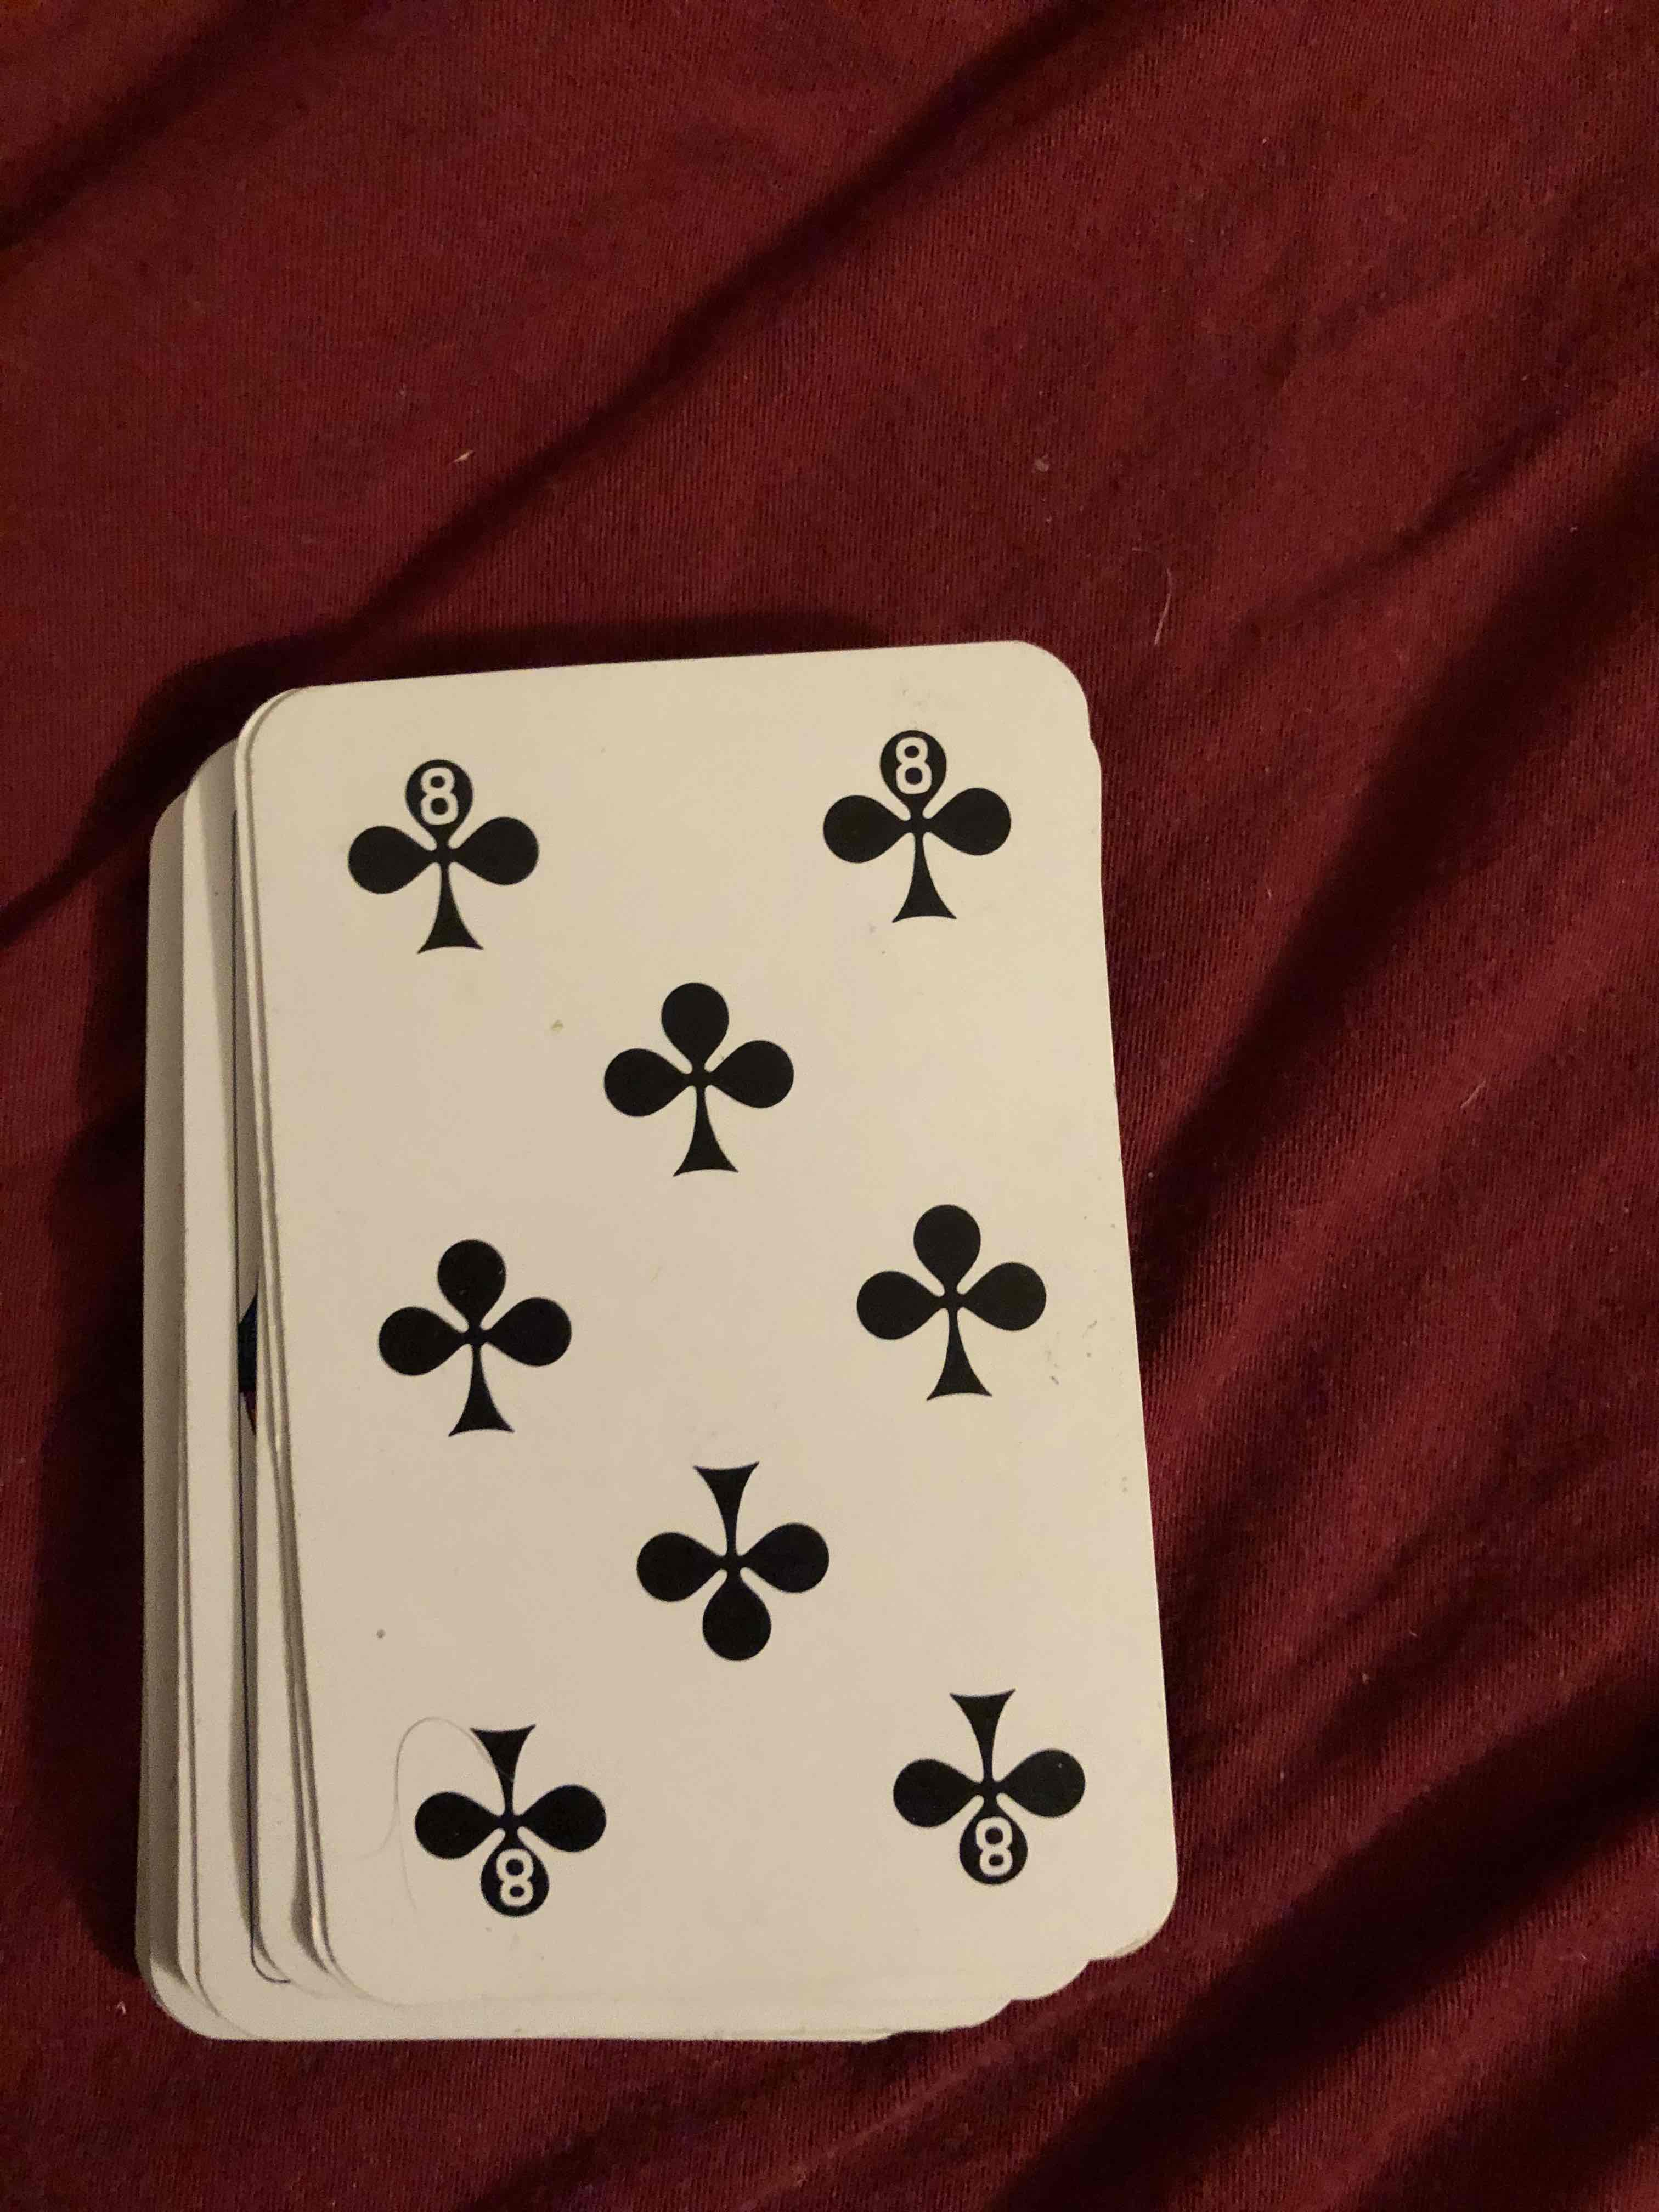clubs8: (240, 700, 1150, 1946)
